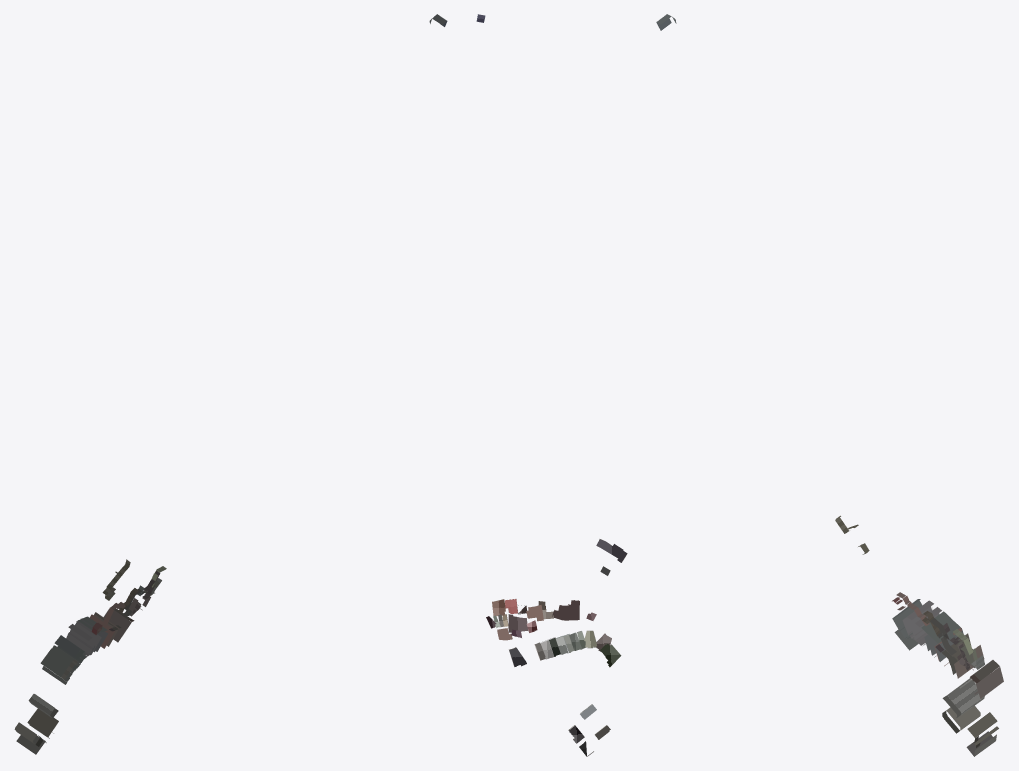
Rendered from tile_LOD2_r2_c3.glb.
3 views of the same model, side by side, from view 1: azimuth 30°, elevation 25°; view 2: azimuth 150°, elevation 25°; view 3: azimuth 270°, elevation 25° (orthographic). The views are drawn at different scales.
Bounding box in the file's own units: 255 × 629 × 223.
Materials: 106 (67 with a texture image).
